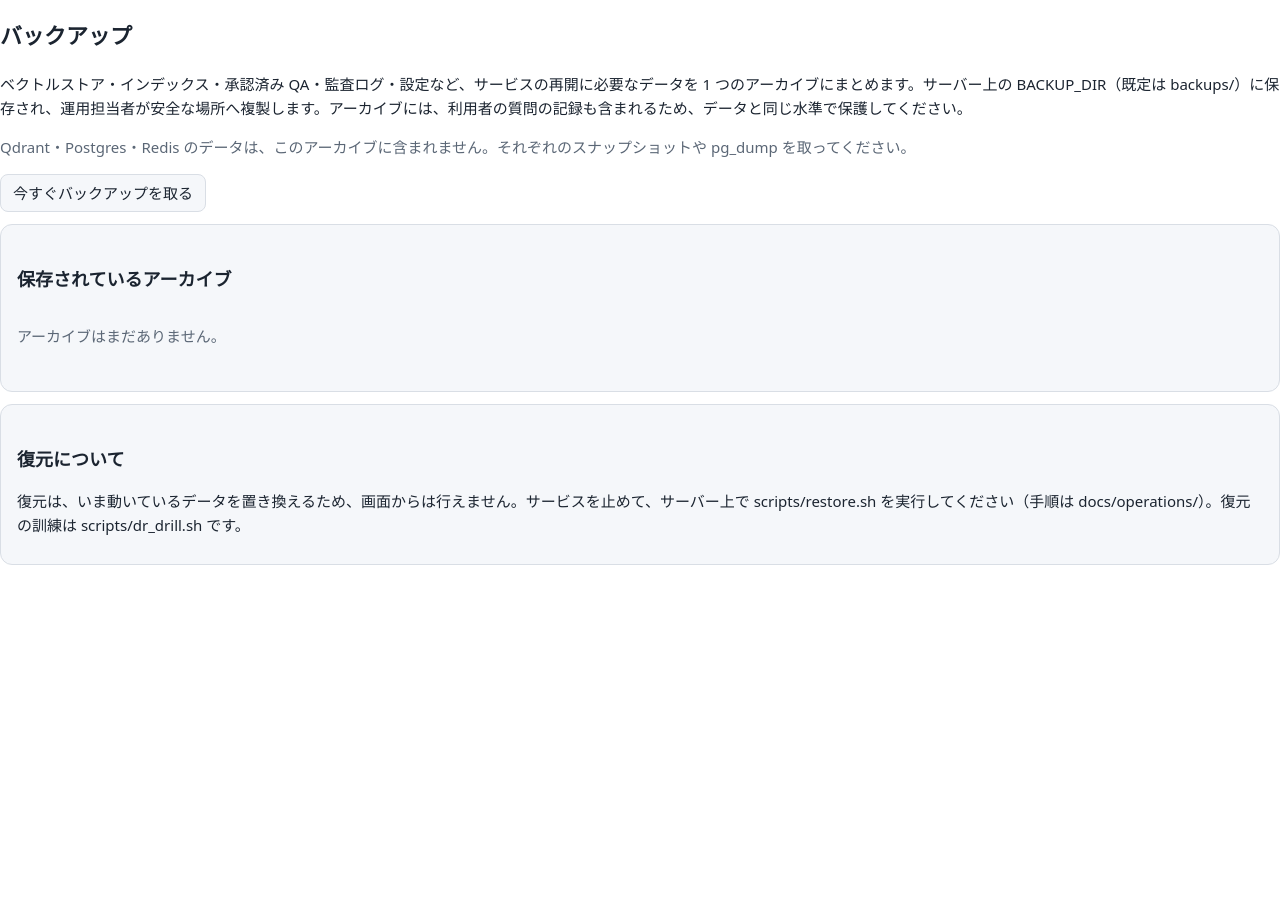
Test: the backup page › starts a backup with a name only, shows it running, then the result and the new list
The width and height of the screenshot is (1280, 900).
Later steps or results of the test are not shown.
Check: the text "アーカイブはまだありません。" is shown, box top-left (17, 326), bottom-right (226, 346)
Click the button "今すぐバックアップを取る".
click(103, 193)  # box top-left (0, 174), bottom-right (206, 212)
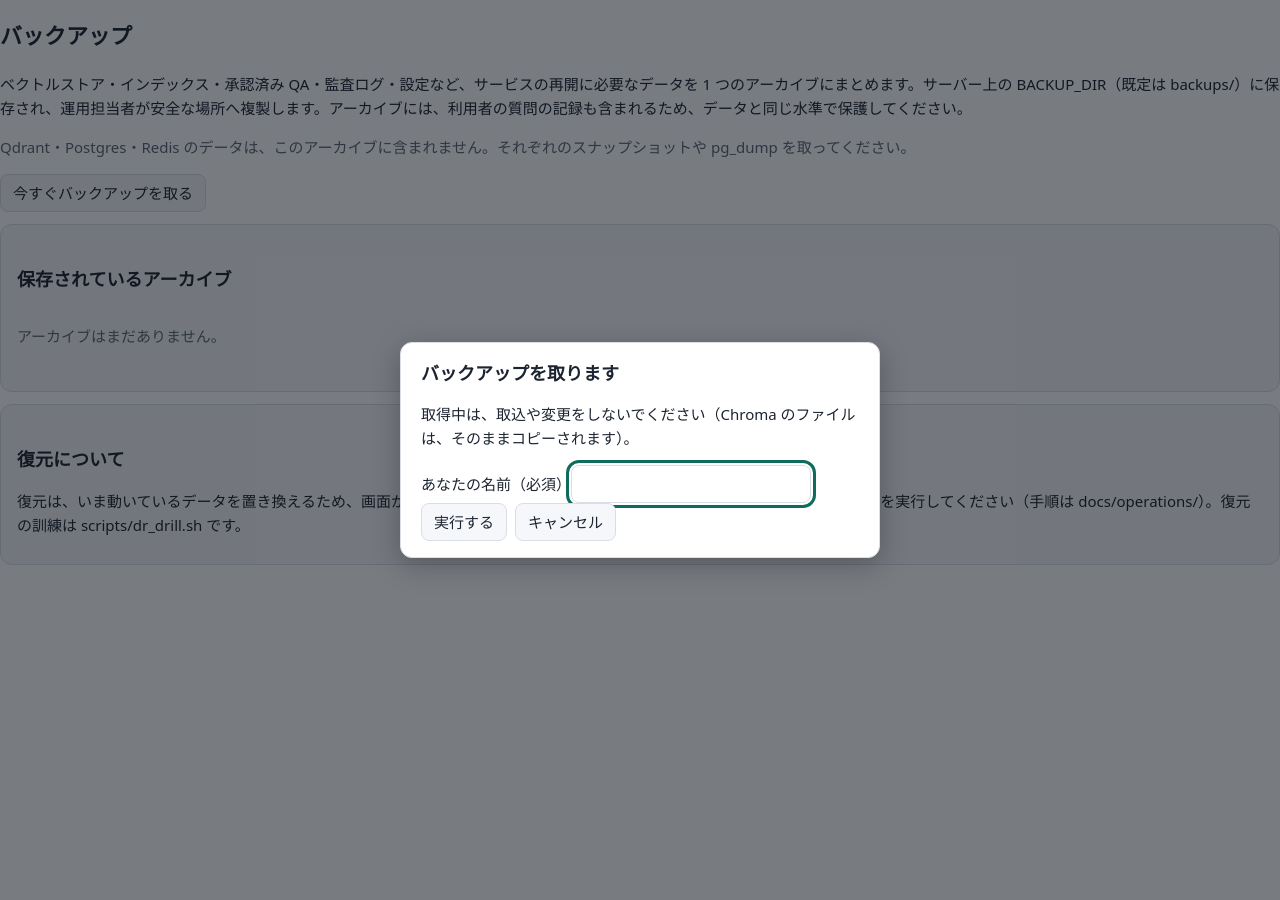
Click the button "実行する".
click(464, 522)  # box top-left (421, 503), bottom-right (507, 541)
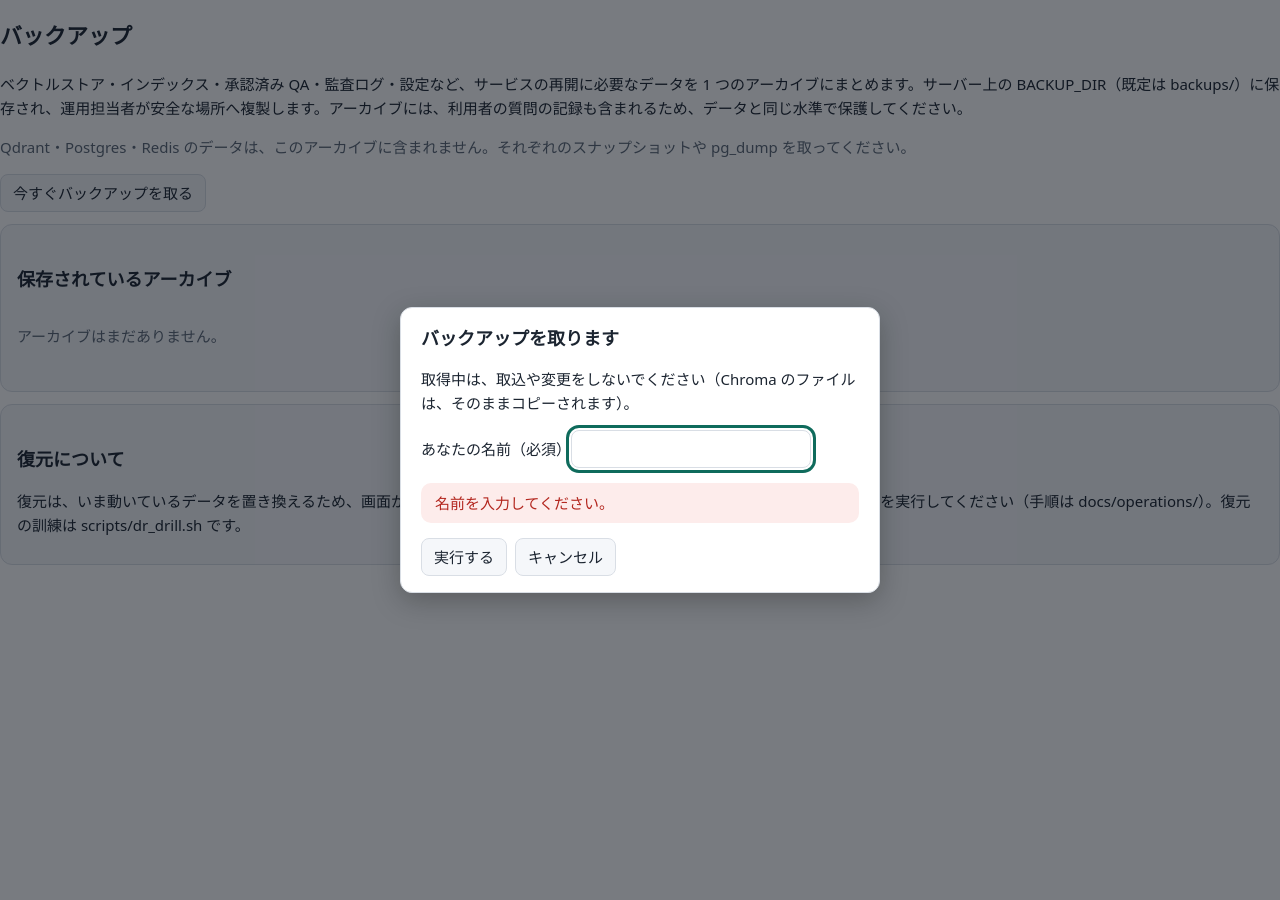
Check: the text "名前を入力してください。" is shown, box top-left (421, 483), bottom-right (859, 523)
Type "山田太郎" into the field labelled "あなたの名前（必須）".
click(691, 449); type("山田太郎")  # box top-left (571, 430), bottom-right (811, 468)
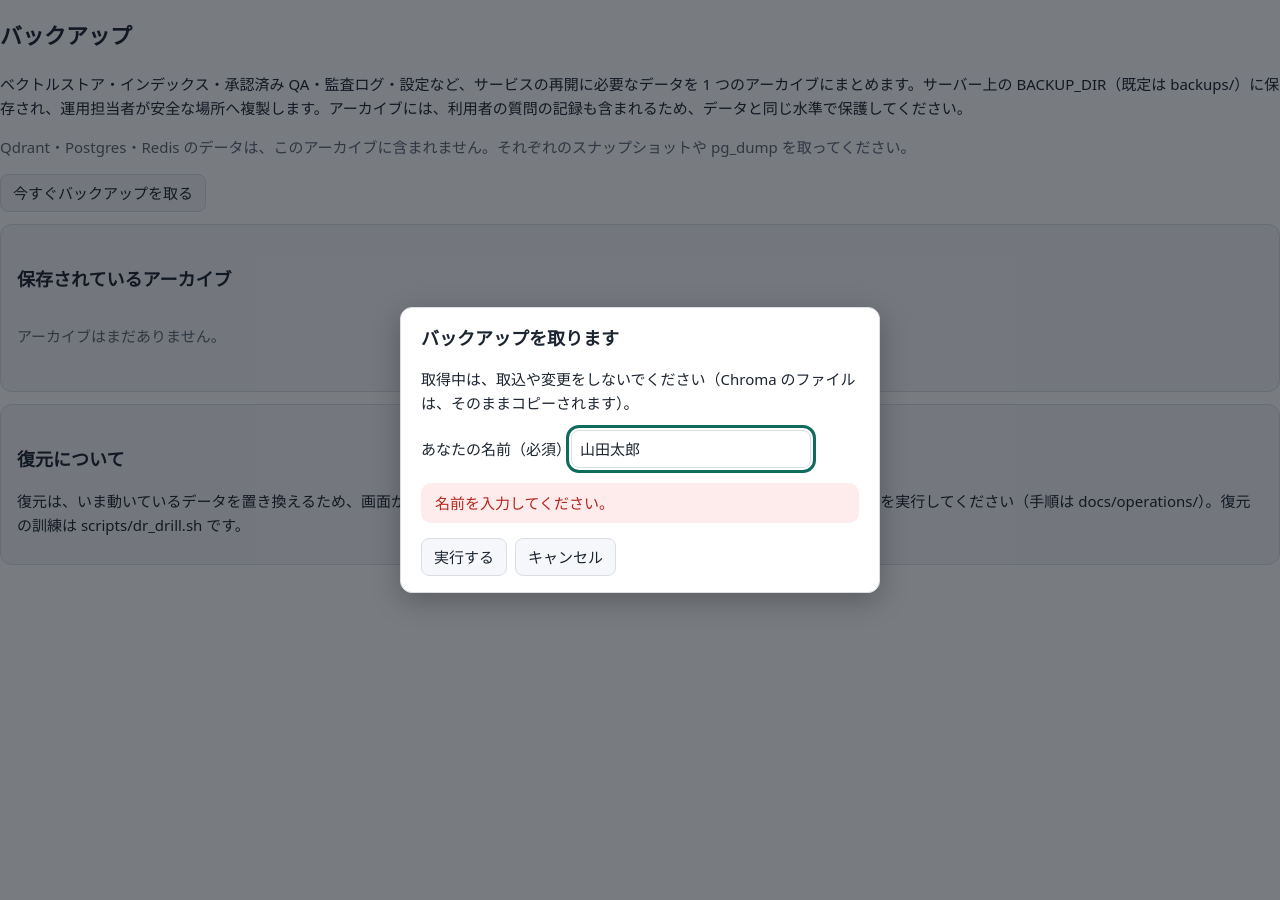
Click the button "実行する".
click(464, 557)  # box top-left (421, 538), bottom-right (507, 576)
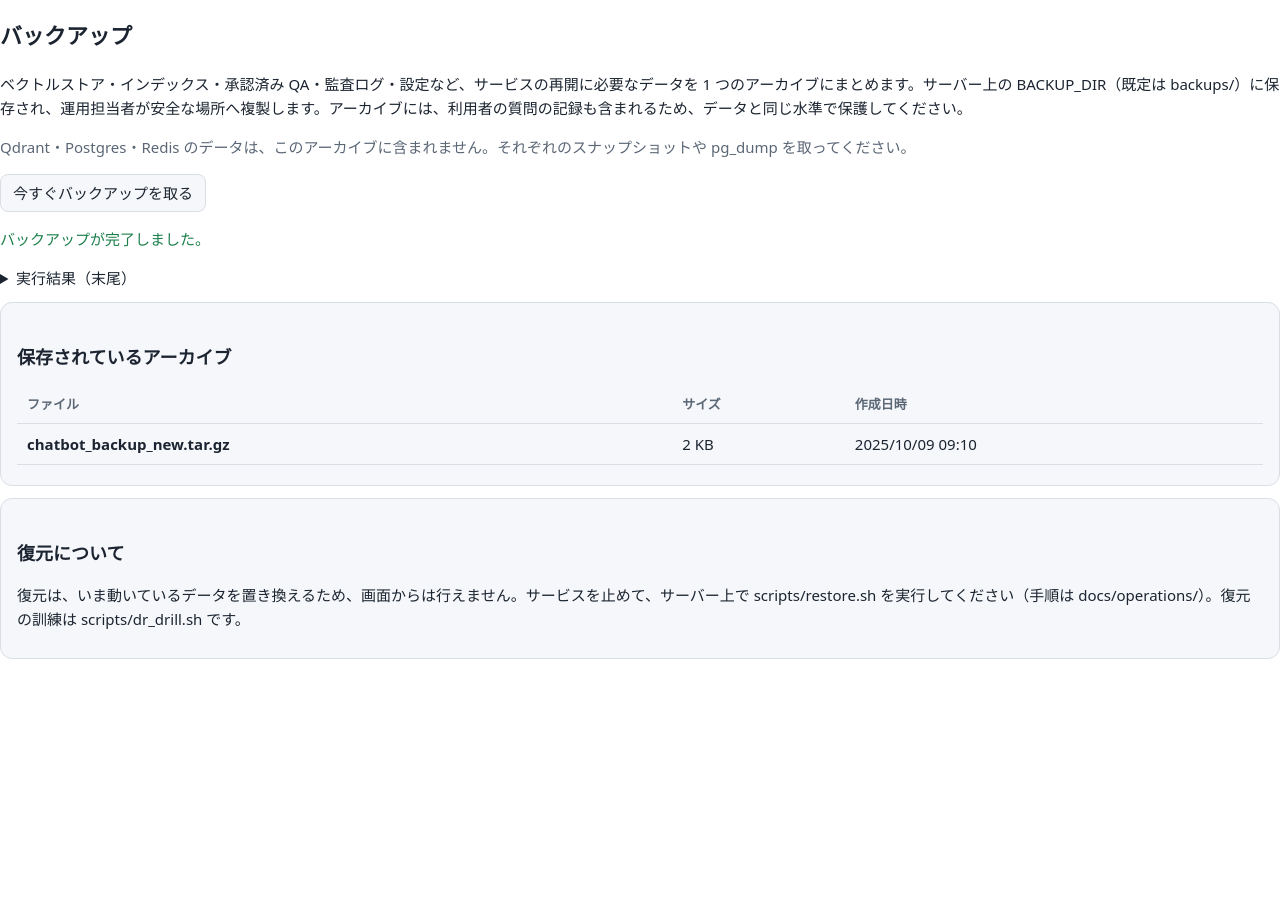
Check: the text "バックアップが完了しました。" is shown, box top-left (0, 229), bottom-right (210, 249)
Check: the row "chatbot_backup_new.tar.gz 2 KB 2025/10/09 09:10" is shown, box top-left (17, 424), bottom-right (1263, 465)
